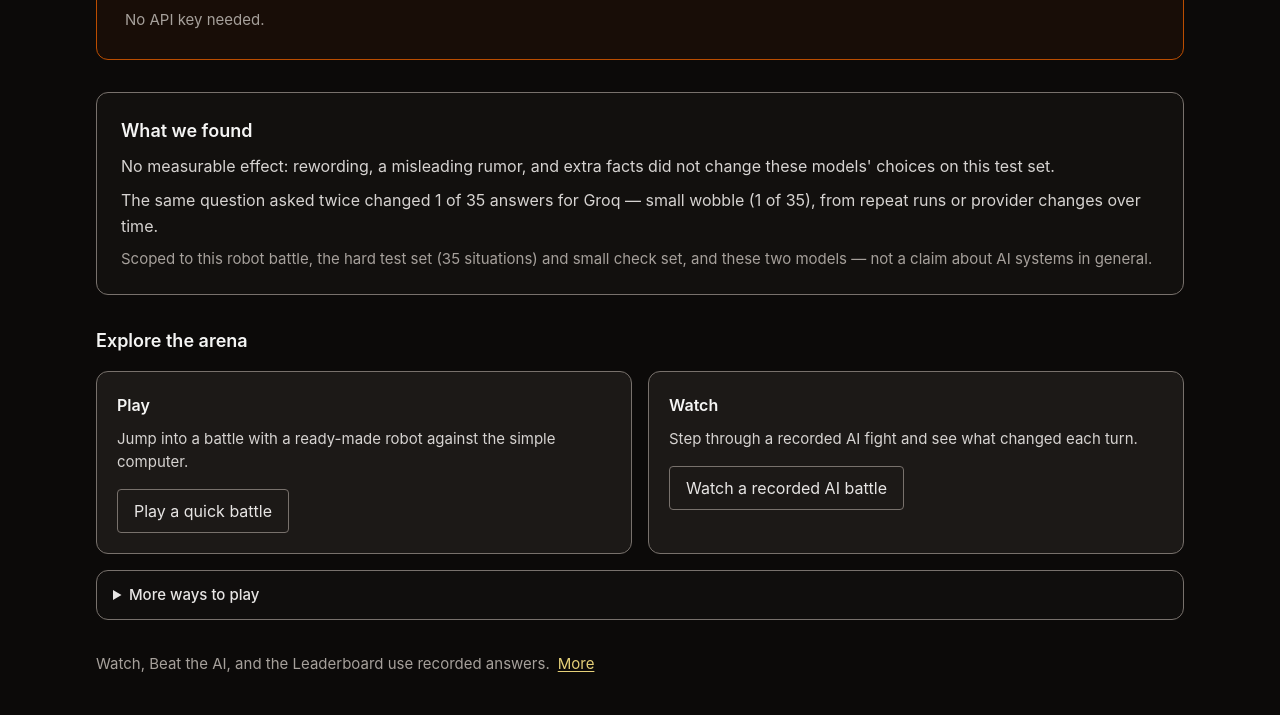
Scenario: BattleSetup honesty vs live intent › Home uses home honesty one-liner and recorded More points
(page scrolled)
expect the text with test id "honesty-one-line" reads "Watch, Beat the AI, and the Leaderboard use recorded answers.": met, box [96, 654, 550, 673]
Step 1. Click the text "More" → (576, 663), box [558, 654, 594, 673]
(page scrolled)
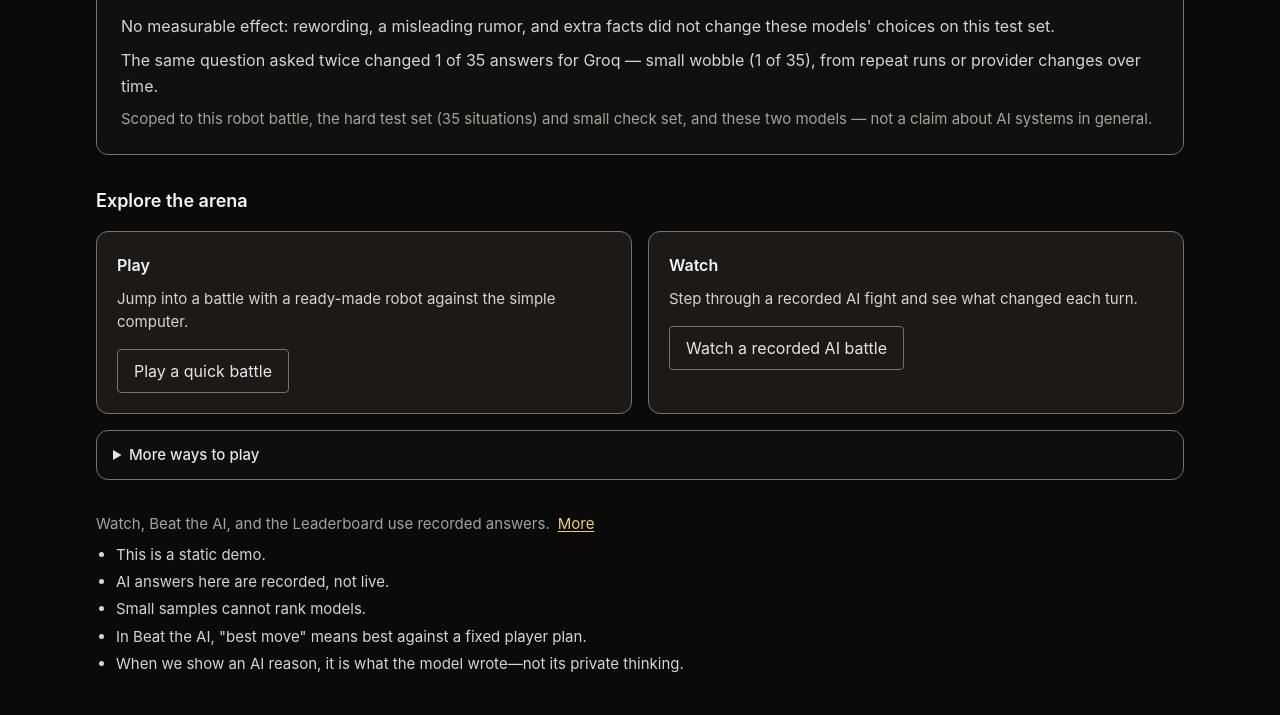
expect the list item "This is a static demo." is shown: met, box [116, 545, 266, 564]
expect the list item "AI answers here are recorded, not live." is shown: met, box [116, 572, 389, 591]
expect the list item "Small samples cannot rank models." is shown: met, box [116, 599, 366, 618]
